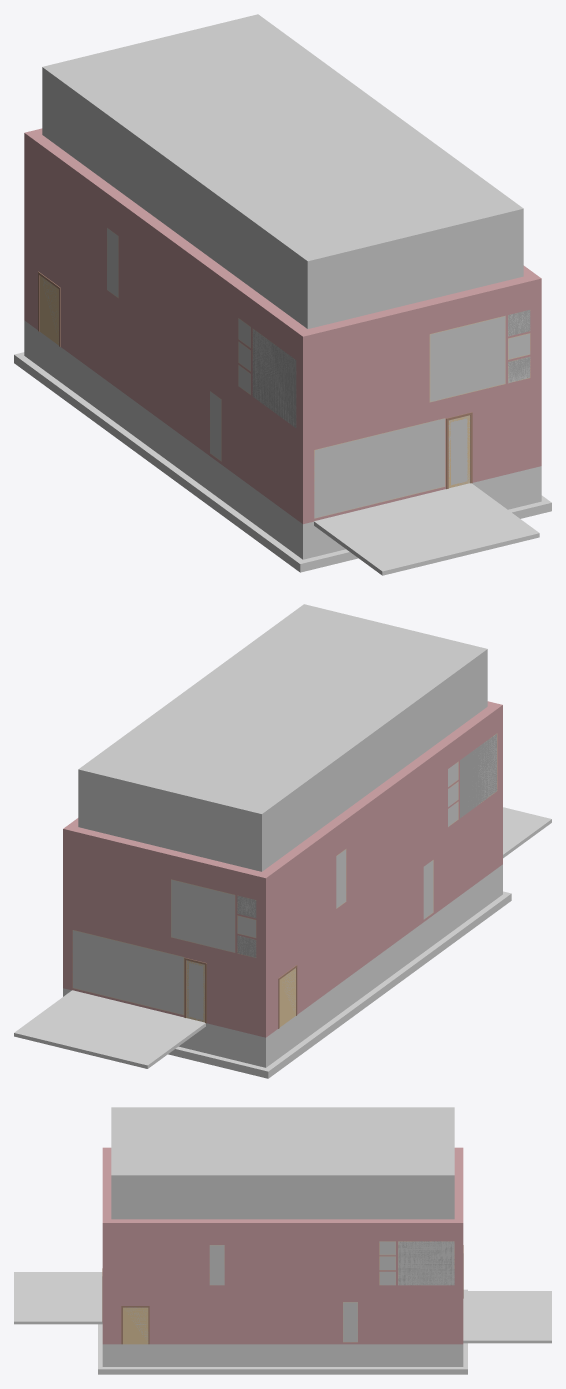
File: Duplex.gltf
3 views of the same model, one above another, from view 1: azimuth 30°, elevation 25°; view 2: azimuth 150°, elevation 25°; view 3: azimuth 270°, elevation 25° (orthographic). The views are drawn at different scales.
Parts seen in each view (by area): view 1: 0pNy6pOyf7JPmXRLgxs3sW, 2O2Fr$t4X7Zf8NOew3FNhv, 2O2Fr$t4X7Zf8NOew3FLPP, 2O2Fr$t4X7Zf8NOew3FLOH, 1CZILmCaHETO8tf3SgGEXu, 2O2Fr$t4X7Zf8NOew3FNr2, 2O2Fr$t4X7Zf8NOew3FKE5, 1hOSvn6df7F8_7Gd7WlRBU, 0jf0rYHfX3RAB3bSIRjmr1, 0jf0rYHfX3RAB3bSIRjmoa, 1hOSvn6df7F8_7Gd7WlS_W, 0kF45Qs8L9PAM9kmb1lT5t (+10 smaller); view 2: 0pNy6pOyf7JPmXRLgxs3sW, 2O2Fr$t4X7Zf8NOew3FNhv, 2O2Fr$t4X7Zf8NOew3FLPP, 2O2Fr$t4X7Zf8NOew3FLQD, 1CZILmCaHETO8tf3SgGEWh, 2O2Fr$t4X7Zf8NOew3FNtn, 2O2Fr$t4X7Zf8NOew3FKE5, 1hOSvn6df7F8_7Gd7WlR72, 0jf0rYHfX3RAB3bSIRjmr1, 0jf0rYHfX3RAB3bSIRjmmy, 1hOSvn6df7F8_7Gd7WlSXO, 0kF45Qs8L9PAM9kmb1lT5t (+8 smaller); view 3: 0pNy6pOyf7JPmXRLgxs3sW, 2O2Fr$t4X7Zf8NOew3FNqI, 2O2Fr$t4X7Zf8NOew3FLR9, 2O2Fr$t4X7Zf8NOew3FK9N, 0jf0rYHfX3RAB3bSIRjmpw, 1CZILmCaHETO8tf3SgGEWh, 1CZILmCaHETO8tf3SgGEXu, 0kF45Qs8L9PAM9kmb1lT5d, 1l0GAJtRTFv8$zmLVOH4pU, 1l0GAJtRTFv8$zmKJOH4pU, 1hOSvn6df7F8_7GcBWlRGQ, 0jf0rYHfX3RAB3bSIRjmmy (+4 smaller).
Boxes of the visible parts, bbox=[...] form: 0pNy6pOyf7JPmXRLgxs3sW: bbox=[42, 14, 523, 328]; 2O2Fr$t4X7Zf8NOew3FNhv: bbox=[31, 237, 296, 518]; 2O2Fr$t4X7Zf8NOew3FLPP: bbox=[24, 150, 302, 435]; 2O2Fr$t4X7Zf8NOew3FLOH: bbox=[303, 296, 541, 436]; 1CZILmCaHETO8tf3SgGEXu: bbox=[314, 483, 539, 575]; 2O2Fr$t4X7Zf8NOew3FNr2: bbox=[296, 381, 530, 524]; 2O2Fr$t4X7Zf8NOew3FKE5: bbox=[31, 325, 296, 554]; 1hOSvn6df7F8_7Gd7WlRBU: bbox=[314, 418, 445, 518]; 0jf0rYHfX3RAB3bSIRjmr1: bbox=[31, 135, 307, 348]; 0jf0rYHfX3RAB3bSIRjmoa: bbox=[296, 276, 530, 353]; 1hOSvn6df7F8_7Gd7WlS_W: bbox=[429, 316, 505, 401]; 0kF45Qs8L9PAM9kmb1lT5t: bbox=[14, 352, 292, 561]; 0pNy6pOyf7JPmXRLgxs3sW: bbox=[78, 604, 487, 871]; 2O2Fr$t4X7Zf8NOew3FNhv: bbox=[271, 794, 497, 1032]; 2O2Fr$t4X7Zf8NOew3FLPP: bbox=[266, 720, 502, 962]; 2O2Fr$t4X7Zf8NOew3FLQD: bbox=[63, 843, 265, 962]; 1CZILmCaHETO8tf3SgGEWh: bbox=[14, 990, 205, 1068]; 2O2Fr$t4X7Zf8NOew3FNtn: bbox=[63, 913, 271, 1037]; 2O2Fr$t4X7Zf8NOew3FKE5: bbox=[271, 869, 497, 1063]; 1hOSvn6df7F8_7Gd7WlR72: bbox=[72, 930, 184, 1014]; 0jf0rYHfX3RAB3bSIRjmr1: bbox=[262, 706, 497, 888]; 0jf0rYHfX3RAB3bSIRjmmy: bbox=[63, 825, 271, 892]; 1hOSvn6df7F8_7Gd7WlSXO: bbox=[171, 879, 235, 952]; 0kF45Qs8L9PAM9kmb1lT5t: bbox=[247, 901, 499, 1078]; 0pNy6pOyf7JPmXRLgxs3sW: bbox=[111, 1107, 454, 1219]; 2O2Fr$t4X7Zf8NOew3FNqI: bbox=[102, 1287, 454, 1344]; 2O2Fr$t4X7Zf8NOew3FLR9: bbox=[102, 1234, 463, 1287]; 2O2Fr$t4X7Zf8NOew3FK9N: bbox=[102, 1344, 454, 1366]; 0jf0rYHfX3RAB3bSIRjmpw: bbox=[102, 1219, 454, 1233]; 1CZILmCaHETO8tf3SgGEWh: bbox=[463, 1291, 551, 1343]; 1CZILmCaHETO8tf3SgGEXu: bbox=[14, 1272, 102, 1324]; 0kF45Qs8L9PAM9kmb1lT5d: bbox=[98, 1361, 467, 1374]; 1l0GAJtRTFv8$zmLVOH4pU: bbox=[398, 1241, 454, 1285]; 1l0GAJtRTFv8$zmKJOH4pU: bbox=[398, 1241, 454, 1285]; 1hOSvn6df7F8_7GcBWlRGQ: bbox=[121, 1306, 149, 1344]; 0jf0rYHfX3RAB3bSIRjmmy: bbox=[454, 1147, 463, 1233].
Size of the model in its own units: 9.28 by 10.55 by 26.57.
